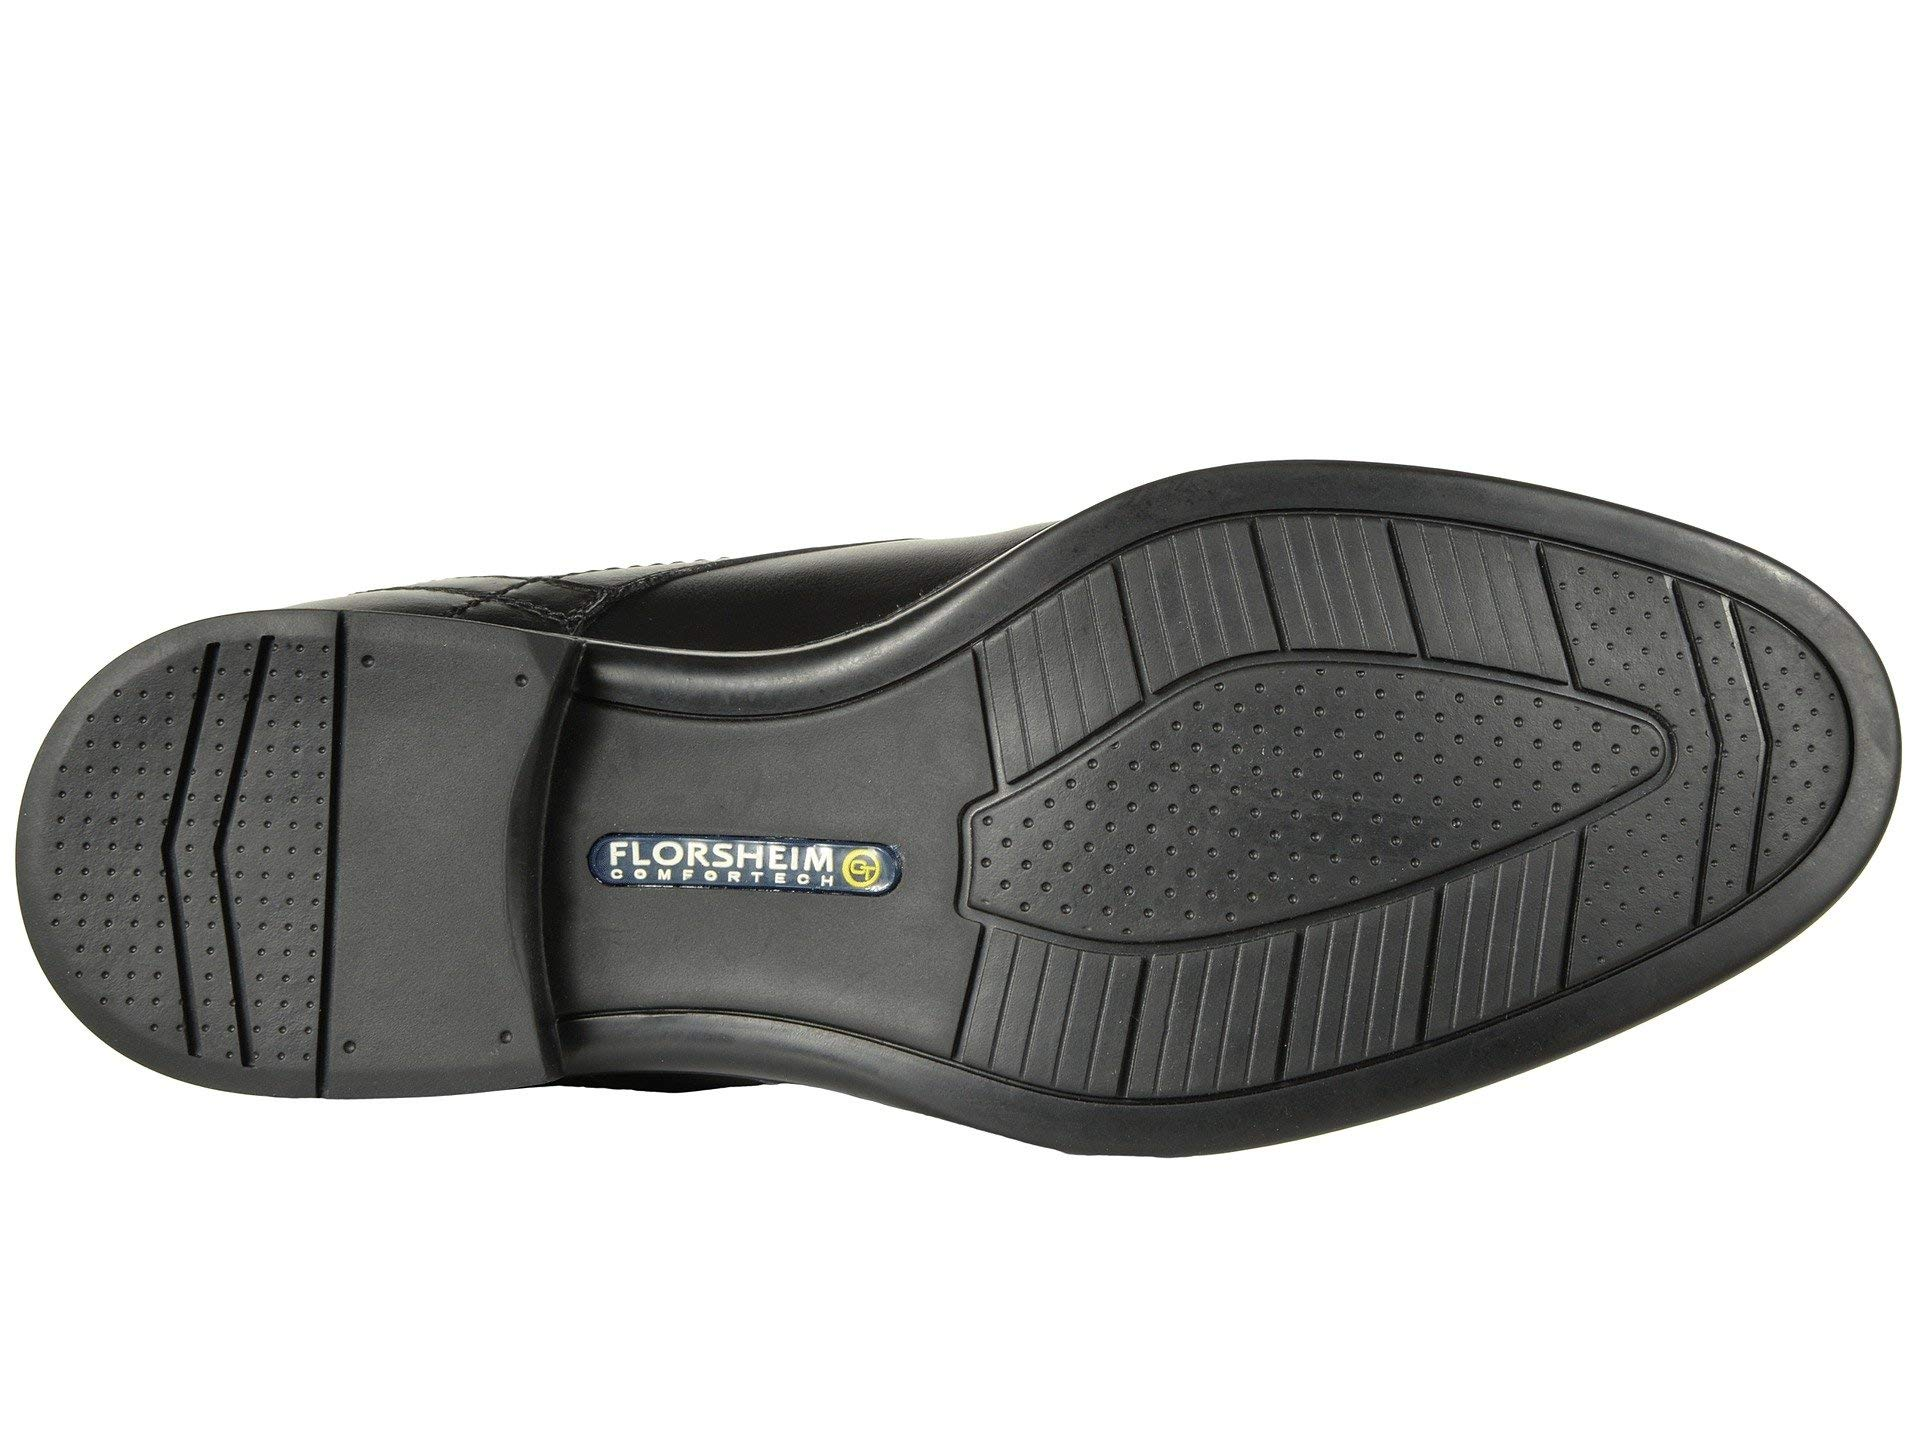chevron: (1612, 638, 1826, 883), (133, 753, 336, 977)
circle: (1108, 499, 1427, 818), (1108, 882, 1436, 1160), (133, 753, 336, 977)
line: (1108, 499, 1427, 818), (1108, 882, 1436, 1160)
quad: (1108, 499, 1427, 818), (1108, 882, 1436, 1160)
